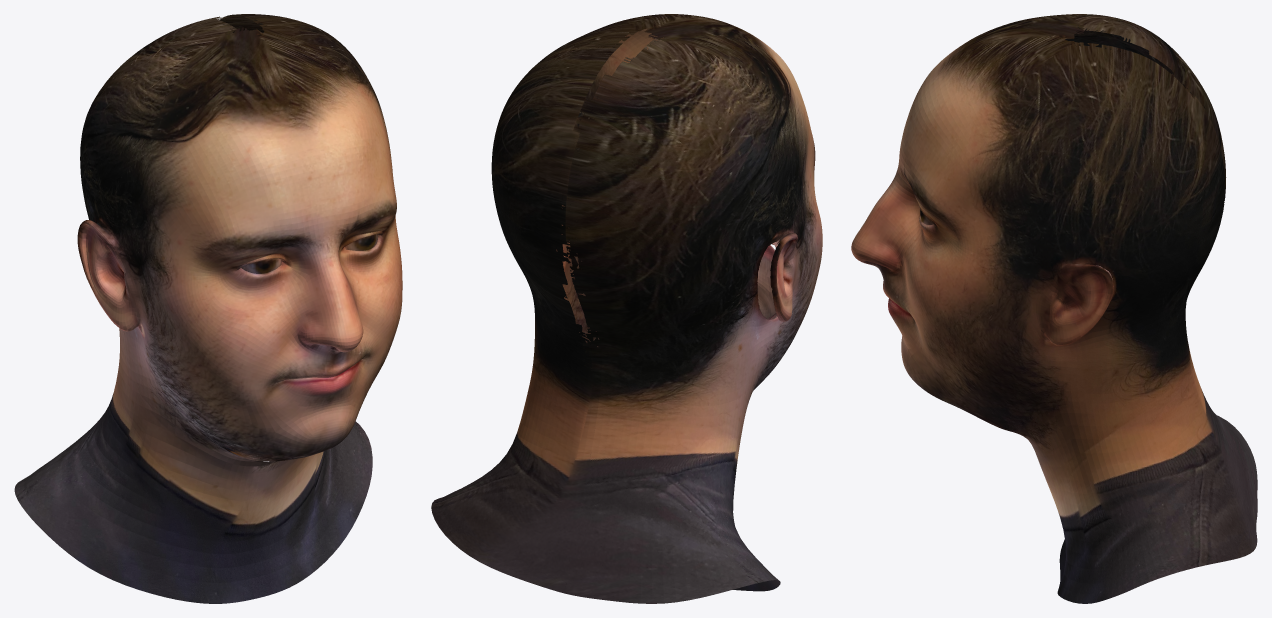
The model's file is CaraJoaco.fbx.
3 views of the same model, side by side, from view 1: azimuth 30°, elevation 25°; view 2: azimuth 150°, elevation 25°; view 3: azimuth 270°, elevation 25° (orthographic). The views are drawn at different scales.
Visible parts, largest first — view 1: CabezaJoaco; view 2: CabezaJoaco; view 3: CabezaJoaco.
Boxes of the visible parts, left/top/right/bottom form: CabezaJoaco: left=14, top=14, right=402, bottom=603; CabezaJoaco: left=431, top=14, right=822, bottom=603; CabezaJoaco: left=851, top=14, right=1257, bottom=603.
Bounding box in the file's own units: 174 × 278 × 187.
Materials: 1 (1 with a texture image).
